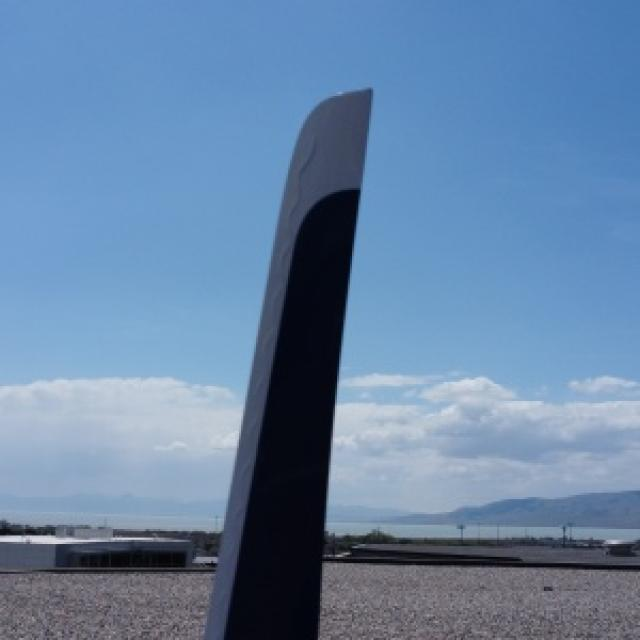healthy: (203, 90, 369, 638)
